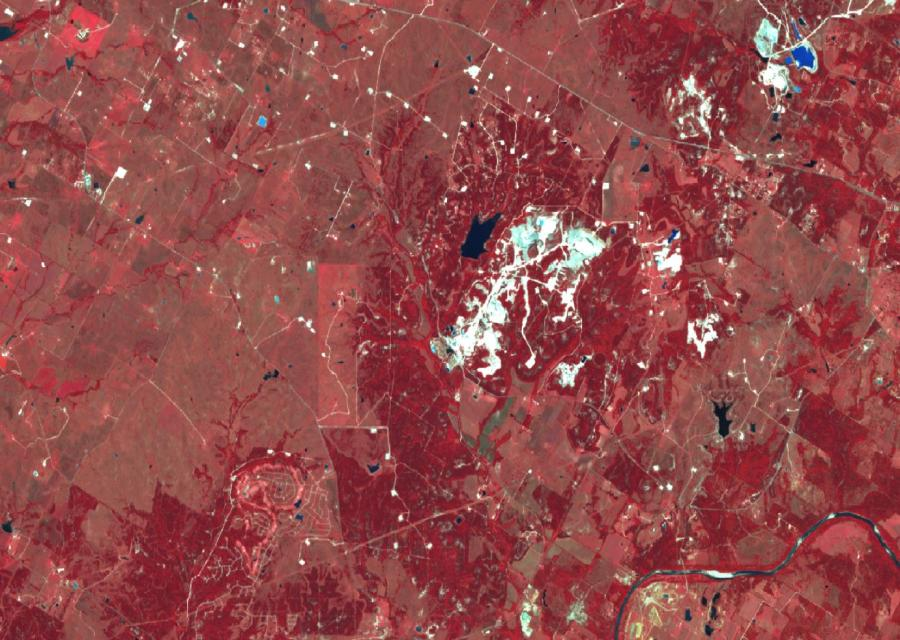Potential Lime Manufacturing Facility: (433, 203, 612, 386)
